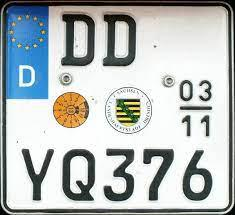3: (102, 145, 138, 204)
6: (180, 145, 215, 203)
7: (141, 146, 175, 203)
D: (101, 9, 138, 70), (59, 10, 97, 68)
Q: (59, 145, 98, 204)
Y: (19, 146, 55, 203)
